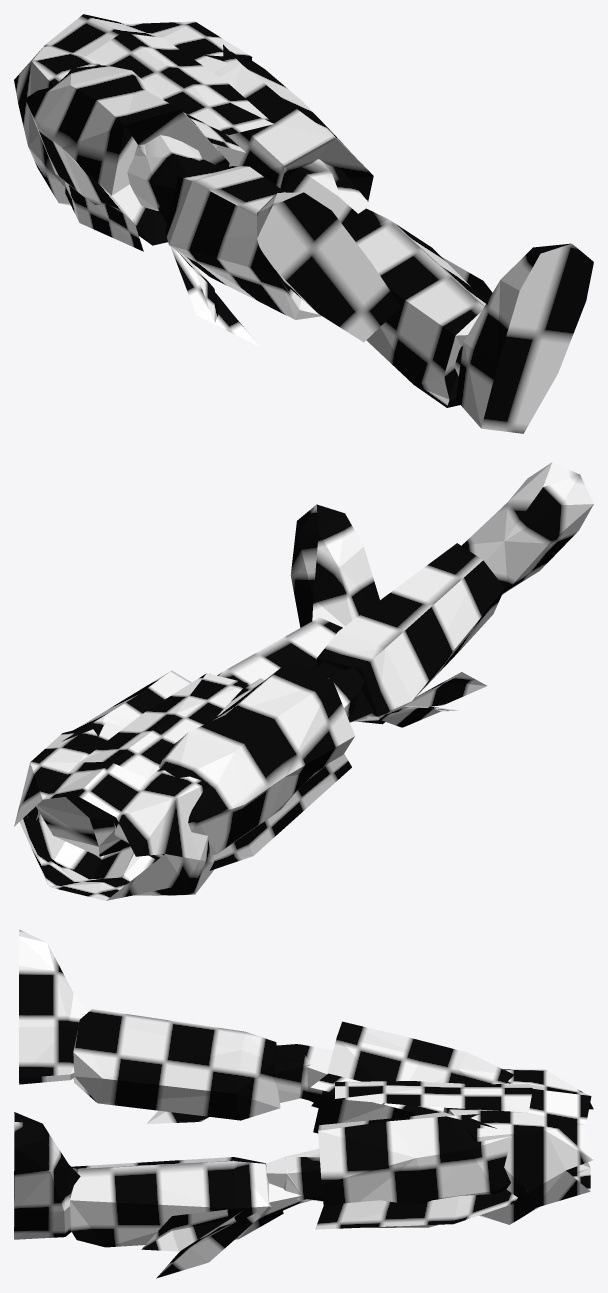
File: initarlg12.dae
3 views of the same model, one above another, from view 1: azimuth 30°, elevation 25°; view 2: azimuth 150°, elevation 25°; view 3: azimuth 270°, elevation 25° (orthographic). The views are drawn at different scales.
Parts seen in each view (by area): view 1: armor; view 2: armor; view 3: armor.
Boxes of the visible parts, x1,y1,x2,y2 form: armor: (14, 14, 593, 433); armor: (14, 462, 593, 900); armor: (14, 929, 593, 1278).
Bounding box in the file's own units: 0.8447 × 1.62 × 0.7532.
Materials: 1 (1 with a texture image).
